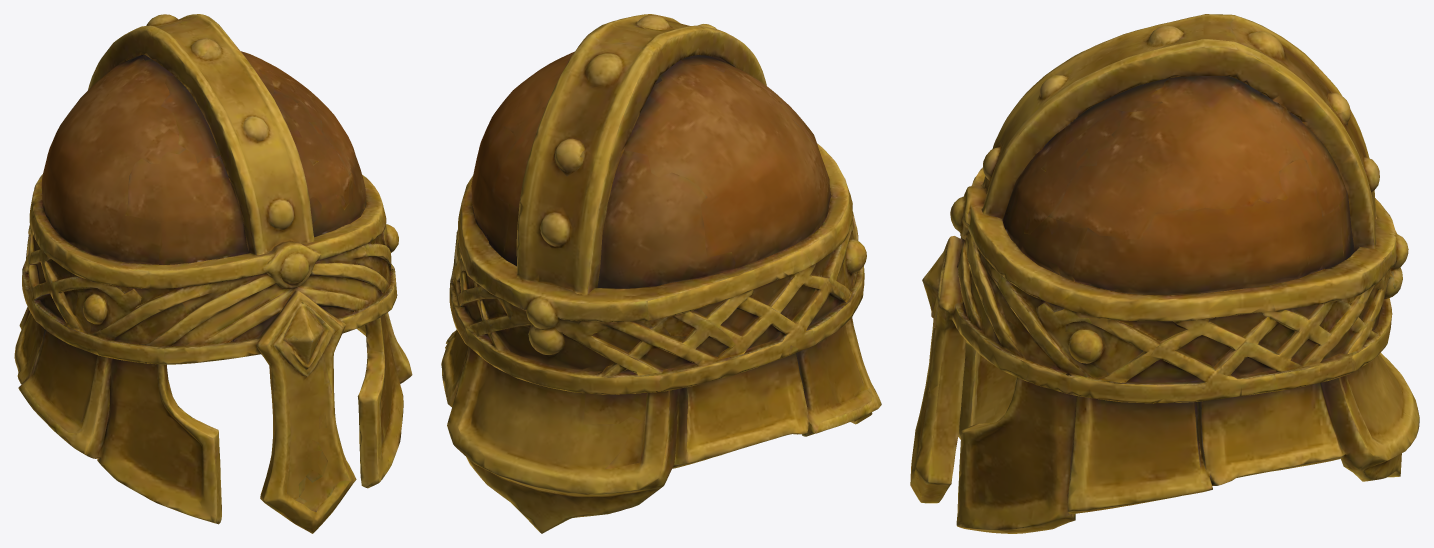
The model's file is helm_bronze_trellis.glb.
The picture shows the model from 3 angles, left to right: view 1: azimuth 30°, elevation 25°; view 2: azimuth 150°, elevation 25°; view 3: azimuth 270°, elevation 25°; orthographic projection. The views are drawn at different scales.
Visible parts, largest first — view 1: world; view 2: world; view 3: world.
Part boxes in pixels (x1,y1,x2,y2): world: (14, 14, 412, 533); world: (441, 14, 881, 533); world: (910, 14, 1419, 533).
Size of the model in its own units: 0.8702 by 1 by 0.9686.
Materials: 1 (1 with a texture image).
